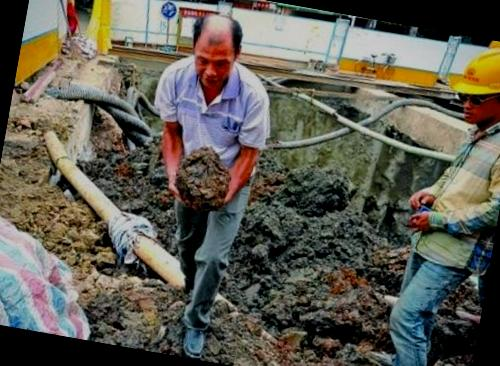no_helmet: (166, 4, 252, 100)
